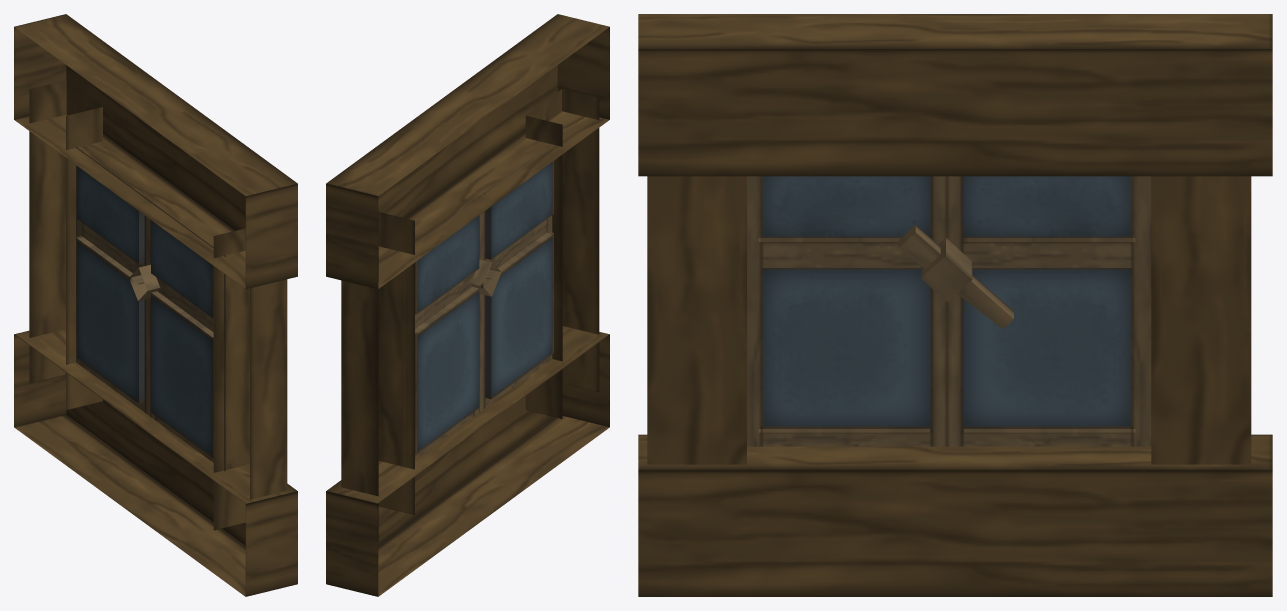
The model's file is okno_01.fbx.
3 views of the same model, side by side, from view 1: azimuth 30°, elevation 25°; view 2: azimuth 150°, elevation 25°; view 3: azimuth 270°, elevation 25° (orthographic). The views are drawn at different scales.
Visible parts, largest first — view 1: Plane.001; view 2: Plane.001; view 3: Plane.001.
Boxes of the visible parts, x1=… form: Plane.001: x1=14, y1=14, x2=297, y2=596; Plane.001: x1=326, y1=14, x2=609, y2=596; Plane.001: x1=638, y1=14, x2=1272, y2=596.
Size of the model in its own units: 53.48 by 392 by 411.
